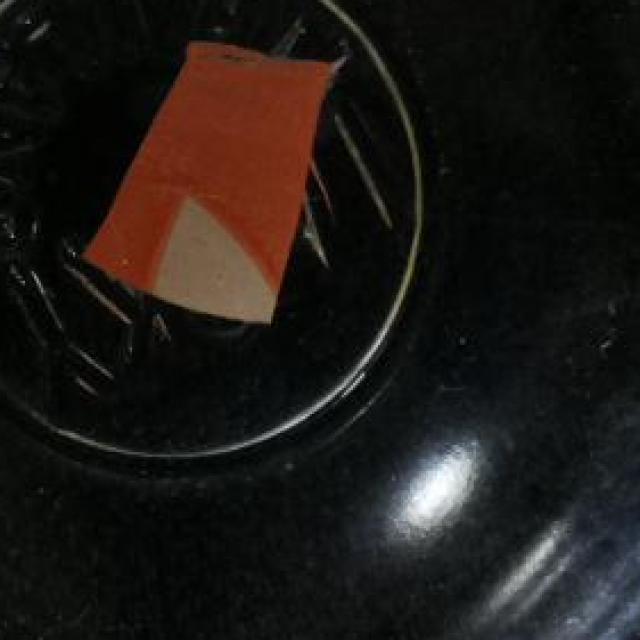Microplastic: (64, 38, 342, 328)
